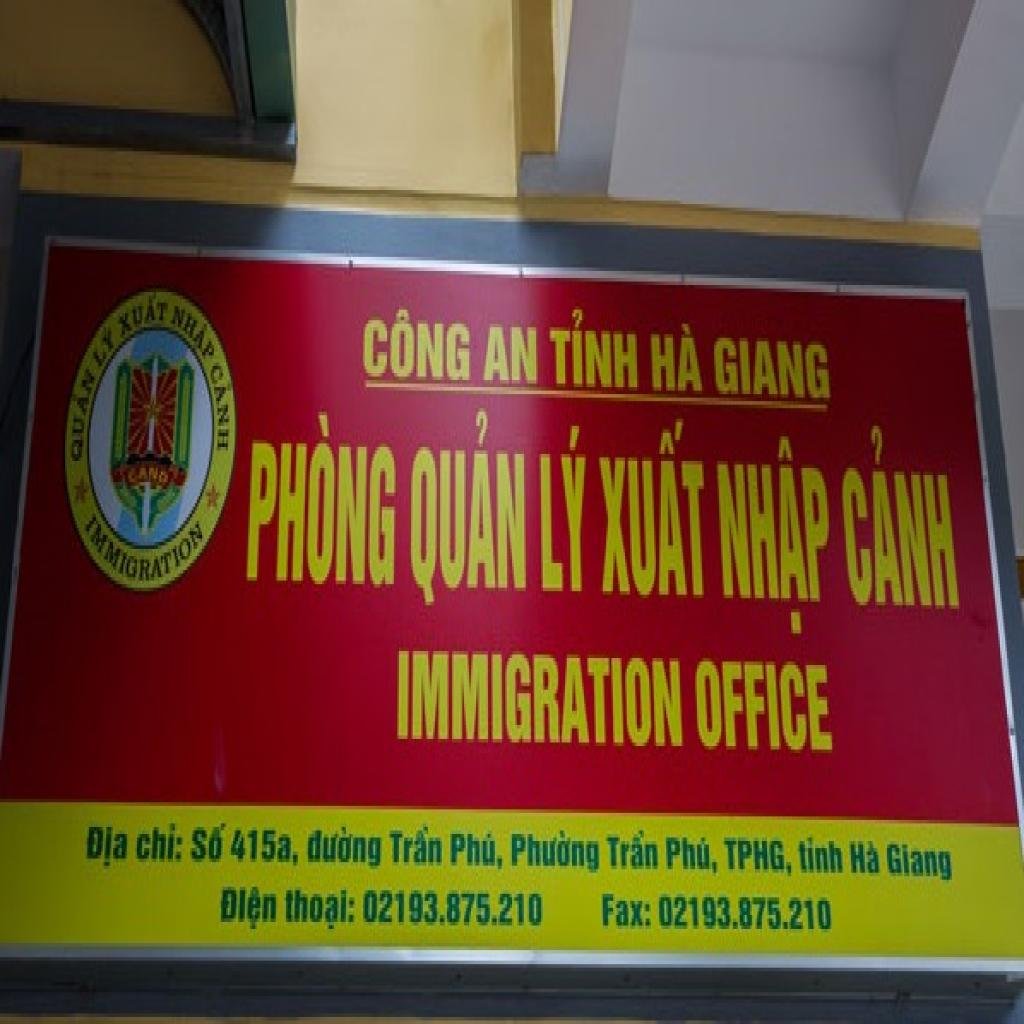text: (243, 404, 404, 602), (394, 648, 687, 756), (712, 433, 838, 644), (832, 419, 962, 619), (408, 408, 528, 612), (596, 418, 714, 602), (58, 503, 216, 612), (696, 658, 838, 760), (538, 422, 592, 598), (361, 883, 550, 933), (712, 334, 836, 408), (363, 310, 474, 387), (546, 306, 640, 394), (645, 316, 709, 398), (510, 827, 603, 883), (282, 883, 358, 940), (168, 289, 224, 366), (65, 352, 101, 471), (723, 827, 796, 883), (305, 823, 385, 873), (481, 324, 541, 390), (884, 837, 960, 887), (230, 824, 302, 876), (116, 288, 173, 348), (219, 883, 279, 940), (209, 348, 238, 458), (664, 830, 720, 884), (447, 824, 505, 876), (796, 830, 850, 884), (604, 827, 662, 876), (134, 820, 185, 873), (82, 820, 130, 876), (598, 890, 656, 936), (387, 824, 444, 869), (187, 816, 231, 870), (848, 838, 885, 883), (93, 320, 118, 373)
